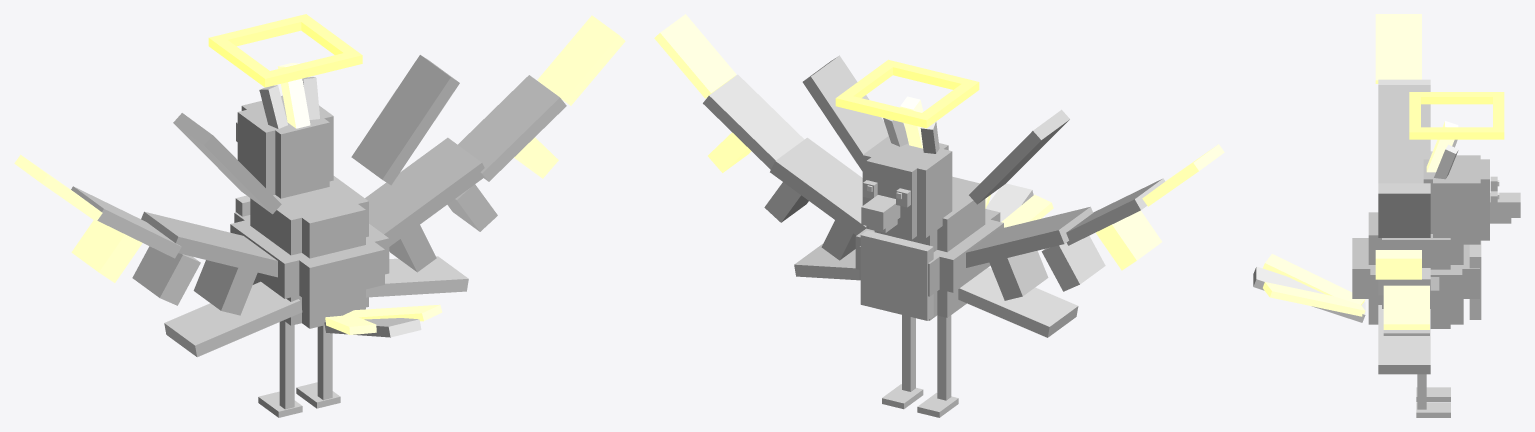
File: DivineSeraphim.fbx
3 renders of one model, left to right at view 1: azimuth 30°, elevation 25°; view 2: azimuth 150°, elevation 25°; view 3: azimuth 270°, elevation 25°, orthographic. The views are drawn at different scales.
Visible parts, largest first — view 1: Divine Seraphim_wingR_20, Divine Seraphim_wingR_39, Divine Seraphim_wingR_22, Divine Seraphim_wingL_42, Divine Seraphim_body_3, Divine Seraphim_wingR_24, Divine Seraphim_wingL_21, Divine Seraphim_body_4, Divine Seraphim_body_5, Divine Seraphim_wingR_41, Divine Seraphim_wingL_40, Divine Seraphim_body_2 (+27 smaller); view 2: Divine Seraphim_body_6, Divine Seraphim_wingR_20, Divine Seraphim_wingR_22, Divine Seraphim_wingL_42, Divine Seraphim_wingR_39, Divine Seraphim_wingL_21, Divine Seraphim_wingR_24, Divine Seraphim_head_9, Divine Seraphim_head_10, Divine Seraphim_body_2, Divine Seraphim_wingL_31, Divine Seraphim_wingL_40 (+26 smaller); view 3: Divine Seraphim_wingL_40, Divine Seraphim_wingL_25, Divine Seraphim_wingR_39, Divine Seraphim_wingR_41, Divine Seraphim_head_9, Divine Seraphim_wingR_30, Divine Seraphim_body_3, Divine Seraphim_body_2, Divine Seraphim_tail_33, Divine Seraphim_wingR_24, Divine Seraphim_body_4, Divine Seraphim_tail_34 (+21 smaller).
Part boxes in pixels (left/top/right/bottom): Divine Seraphim_wingR_20: left=365, top=137, right=484, bottom=246; Divine Seraphim_wingR_39: left=351, top=55, right=459, bottom=185; Divine Seraphim_wingR_22: left=458, top=75, right=566, bottom=181; Divine Seraphim_wingL_42: left=164, top=281, right=302, bottom=357; Divine Seraphim_body_3: left=234, top=212, right=384, bottom=302; Divine Seraphim_wingR_24: left=537, top=15, right=625, bottom=105; Divine Seraphim_wingL_21: left=141, top=211, right=277, bottom=277; Divine Seraphim_body_4: left=250, top=176, right=368, bottom=255; Divine Seraphim_body_5: left=273, top=189, right=365, bottom=258; Divine Seraphim_wingR_41: left=366, top=256, right=468, bottom=297; Divine Seraphim_wingL_40: left=173, top=113, right=281, bottom=214; Divine Seraphim_body_2: left=230, top=219, right=389, bottom=298; Divine Seraphim_body_6: left=860, top=230, right=933, bottom=320; Divine Seraphim_wingR_20: left=770, top=137, right=866, bottom=235; Divine Seraphim_wingR_22: left=703, top=74, right=804, bottom=169; Divine Seraphim_wingL_42: left=958, top=267, right=1078, bottom=337; Divine Seraphim_wingR_39: left=802, top=55, right=888, bottom=171; Divine Seraphim_wingL_21: left=966, top=206, right=1093, bottom=267; Divine Seraphim_wingR_24: left=654, top=14, right=736, bottom=98; Divine Seraphim_head_9: left=862, top=136, right=952, bottom=204; Divine Seraphim_head_10: left=866, top=143, right=948, bottom=205; Divine Seraphim_body_2: left=855, top=218, right=1003, bottom=292; Divine Seraphim_wingL_31: left=1096, top=210, right=1162, bottom=270; Divine Seraphim_wingL_40: left=969, top=109, right=1069, bottom=204; Divine Seraphim_wingL_40: left=1378, top=85, right=1430, bottom=183; Divine Seraphim_wingL_25: left=1375, top=14, right=1421, bottom=83; Divine Seraphim_wingR_39: left=1378, top=183, right=1430, bottom=237; Divine Seraphim_wingR_41: left=1378, top=305, right=1430, bottom=374; Divine Seraphim_head_9: left=1433, top=155, right=1480, bottom=213; Divine Seraphim_wingR_30: left=1383, top=285, right=1429, bottom=329; Divine Seraphim_body_3: left=1352, top=238, right=1479, bottom=298; Divine Seraphim_body_2: left=1370, top=265, right=1462, bottom=304; Divine Seraphim_tail_33: left=1263, top=282, right=1365, bottom=316; Divine Seraphim_wingR_24: left=1375, top=250, right=1421, bottom=279; Divine Seraphim_body_4: left=1382, top=235, right=1450, bottom=269; Divine Seraphim_tail_34: left=1262, top=254, right=1365, bottom=305.
Bounding box in the file's own units: 491 × 279 × 230.
